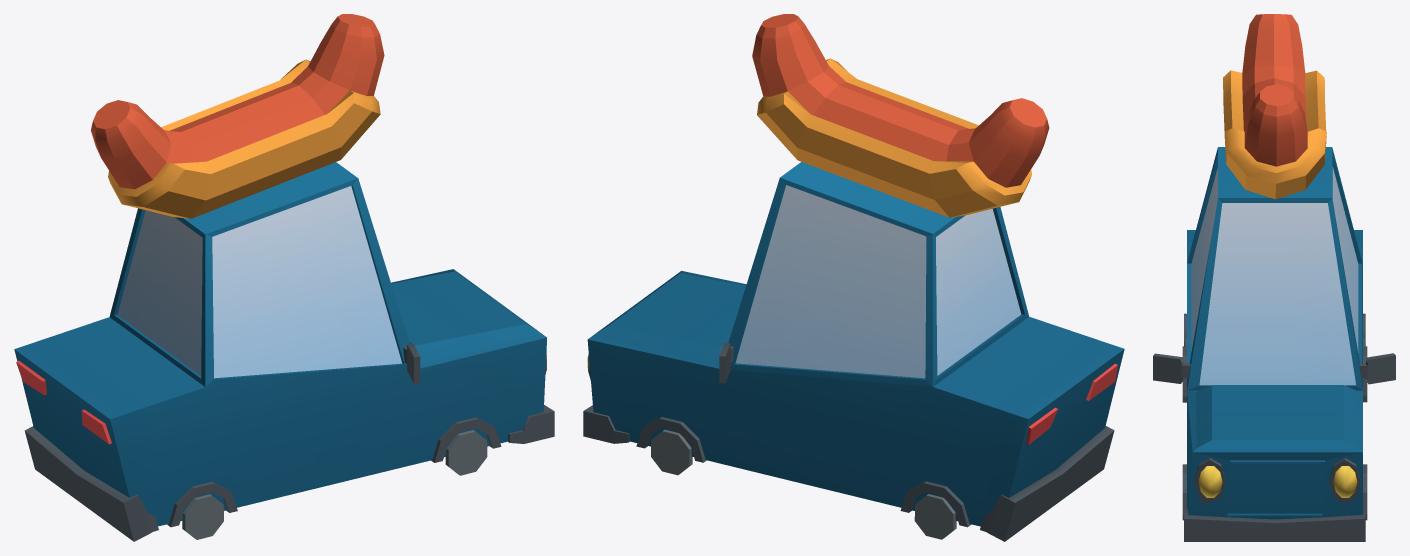
Rendered from HotDogCar.fbx.
3 views of the same model, side by side, from view 1: azimuth 30°, elevation 25°; view 2: azimuth 150°, elevation 25°; view 3: azimuth 270°, elevation 25° (orthographic). The views are drawn at different scales.
Visible parts, largest first — view 1: HotDogCar; view 2: HotDogCar; view 3: HotDogCar.
Part boxes in pixels (box(x1,y1,x2,y2)): HotDogCar: box(14, 14, 554, 541); HotDogCar: box(583, 14, 1124, 541); HotDogCar: box(1153, 14, 1395, 541).
Bounding box in the file's own units: 728 × 674 × 372.
